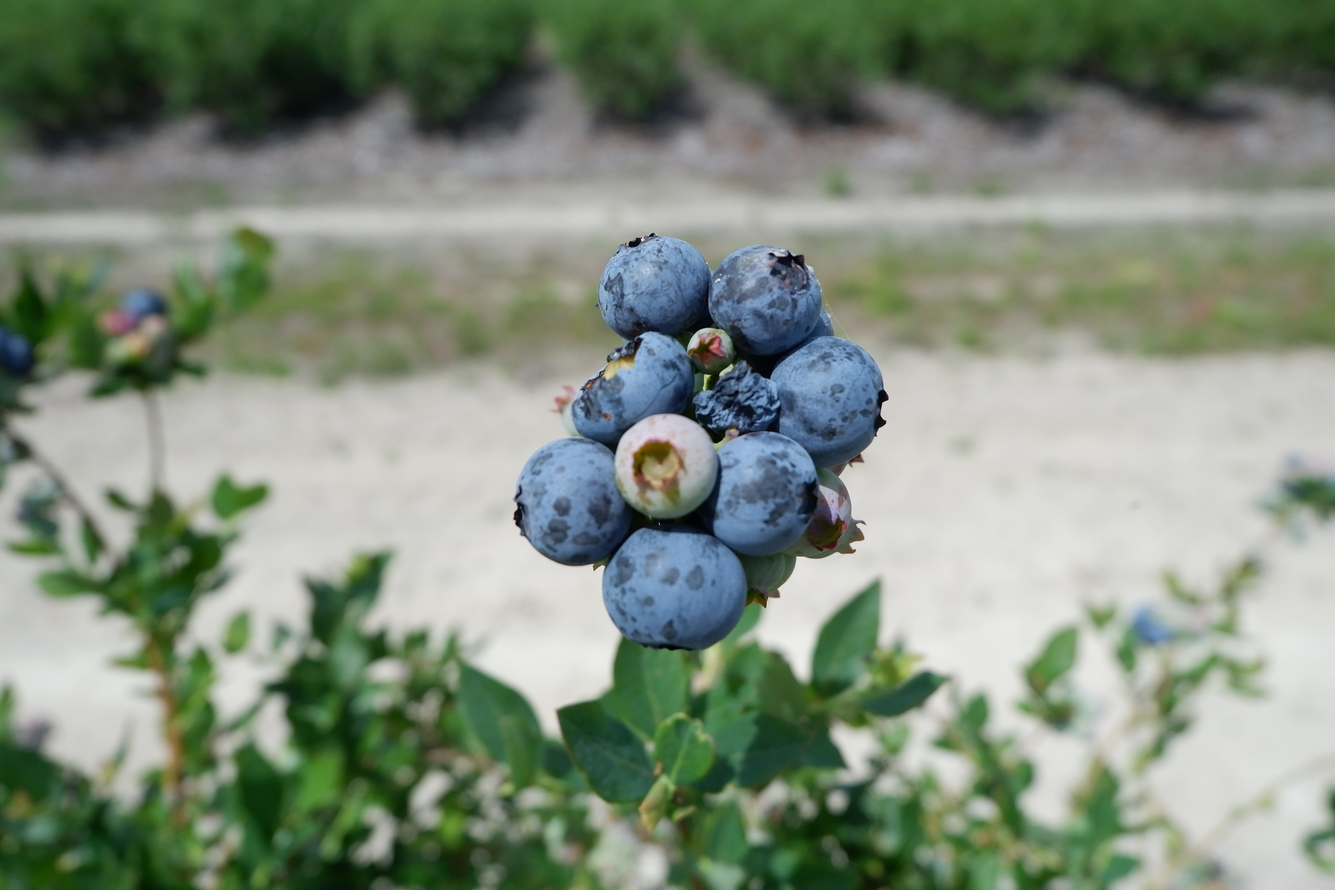Immature: (617, 416, 716, 516), (782, 467, 852, 558), (732, 550, 786, 607), (811, 518, 866, 559), (688, 328, 733, 370), (768, 554, 796, 597), (814, 453, 864, 477)
Mature: (604, 529, 744, 648), (515, 441, 629, 562), (775, 338, 883, 462), (570, 336, 691, 444), (710, 436, 816, 553), (710, 250, 821, 354), (598, 237, 708, 337), (706, 364, 778, 436), (775, 314, 835, 366), (692, 390, 714, 432)
